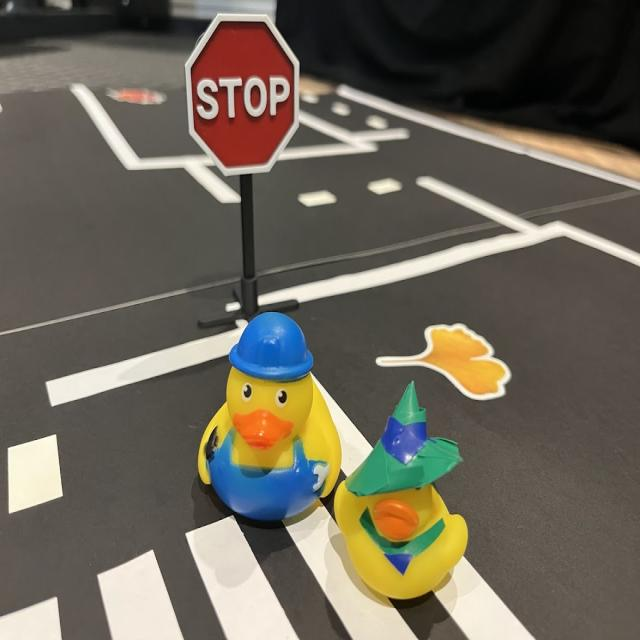duck_regular: (329, 386, 471, 608)
duck_specialty: (202, 316, 341, 526)
road_crosswalk: (1, 469, 429, 640)
sign_stop: (185, 14, 301, 181)
